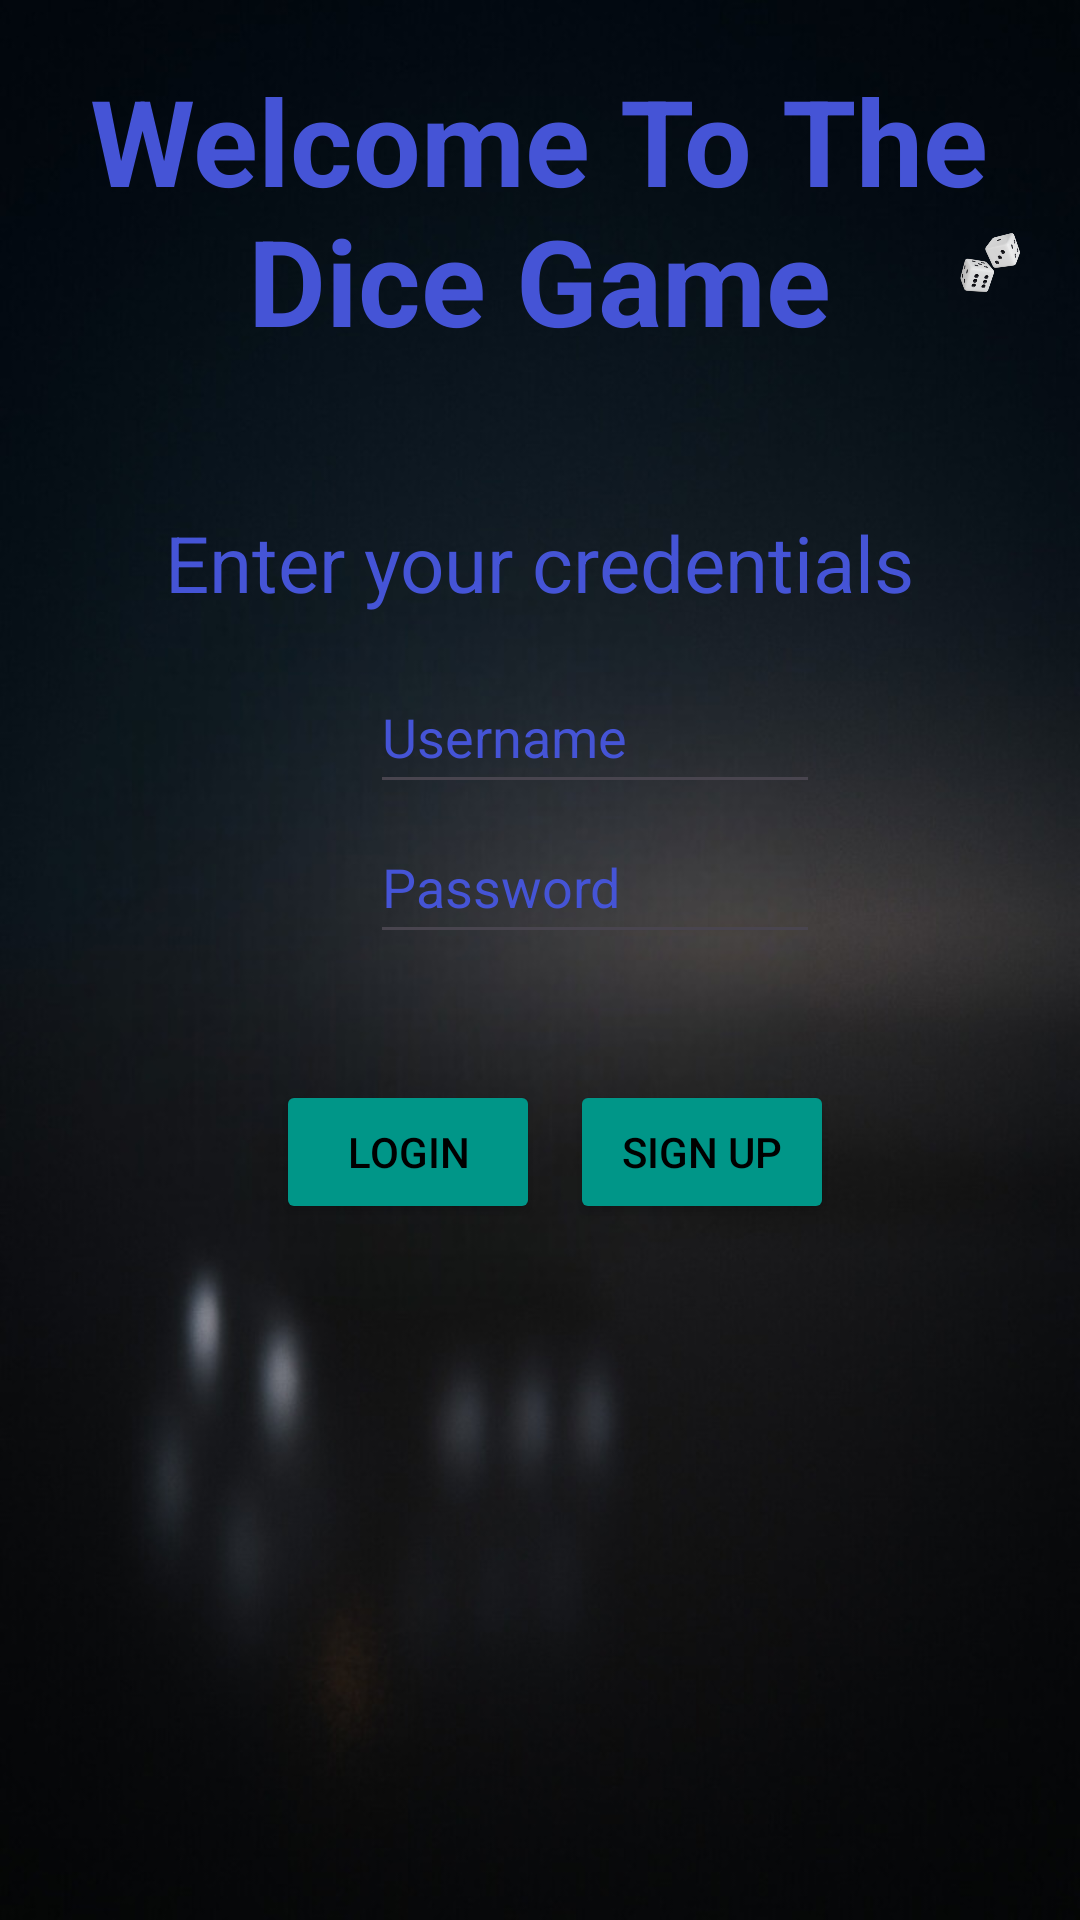

Icon bounding boxes for this 1080x1920 phone screenshot, format [x1,y1,x2,y2]:
image of two dices: [960,233,1020,292]
